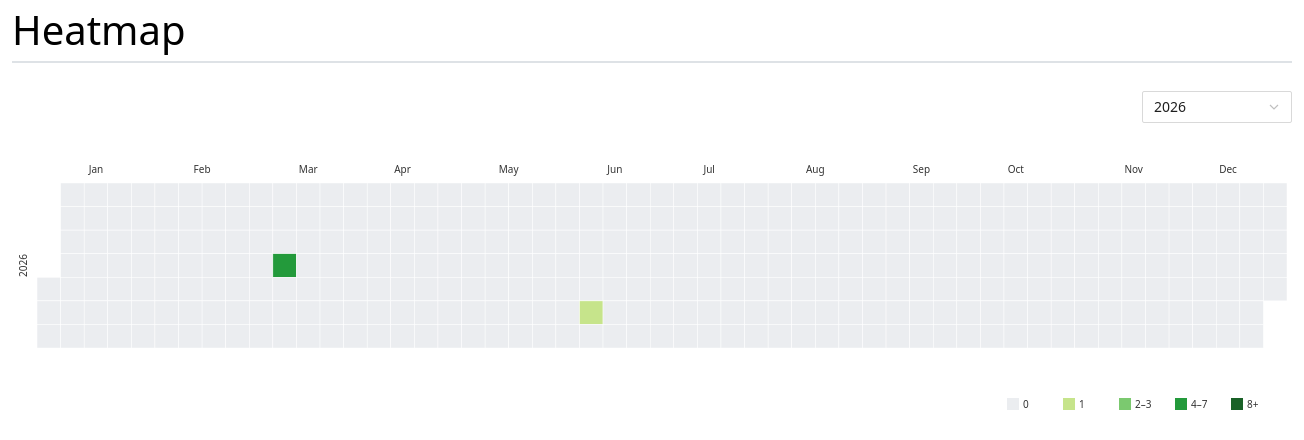
Test: clears stale tooltips on year/data changes, preserves valid year selection, and falls back after a user change
This screenshot has width=1304, height=440.
Later steps or results of the test are not shown.
Focus the picture named "Submission heatmap" at coordinates (652, 273), box [12, 123, 1292, 423]
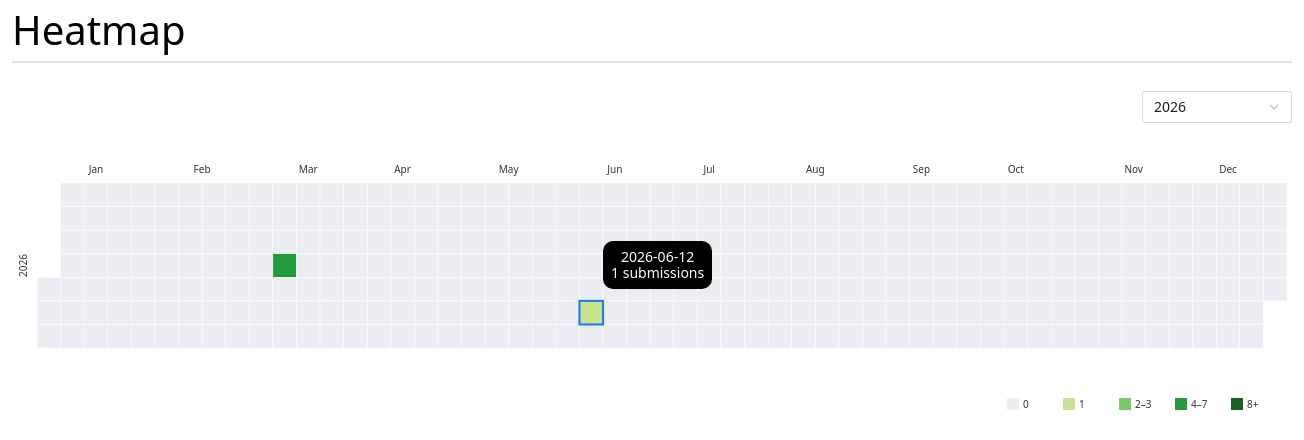
Press ArrowDown in the dropdown named "Heatmap year", box [1142, 91, 1292, 123]
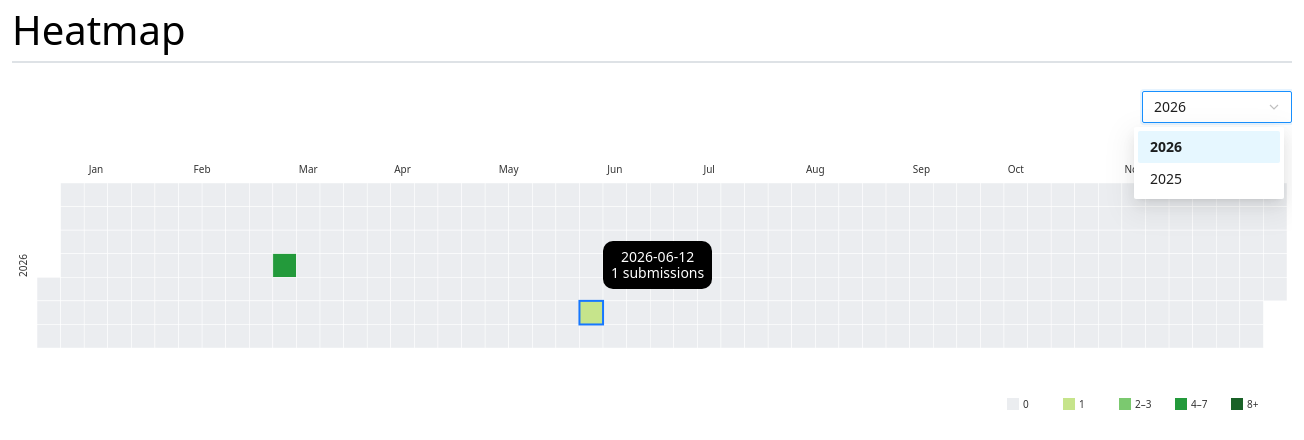
Click the option "2025".
click(1166, 178)  # box [1150, 169, 1182, 188]
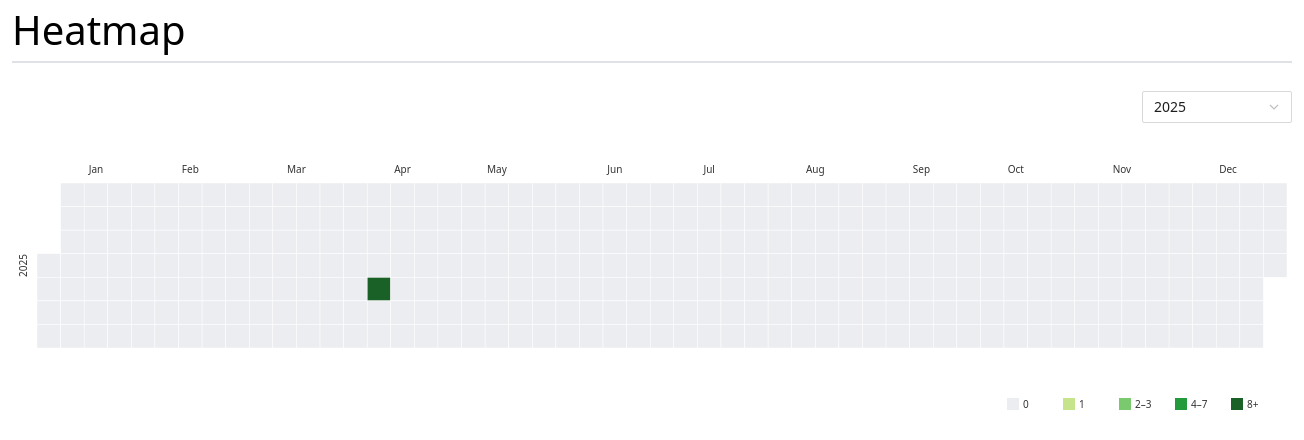
Now the tooltip "2026-06-12 1 submissions" is gone
